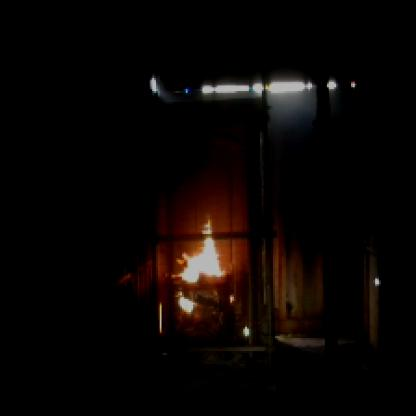Fire: (167, 221, 236, 310)
